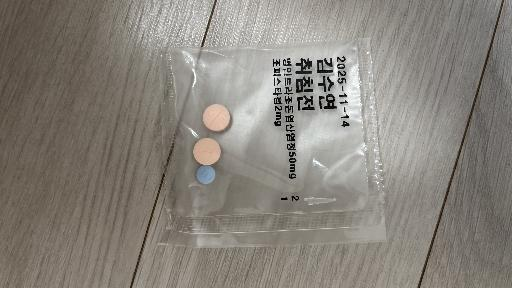Trazodone HCl: (193, 138, 221, 165), (203, 104, 230, 131)
Zopista: (196, 165, 215, 184)
vinyl: (160, 39, 386, 247)
